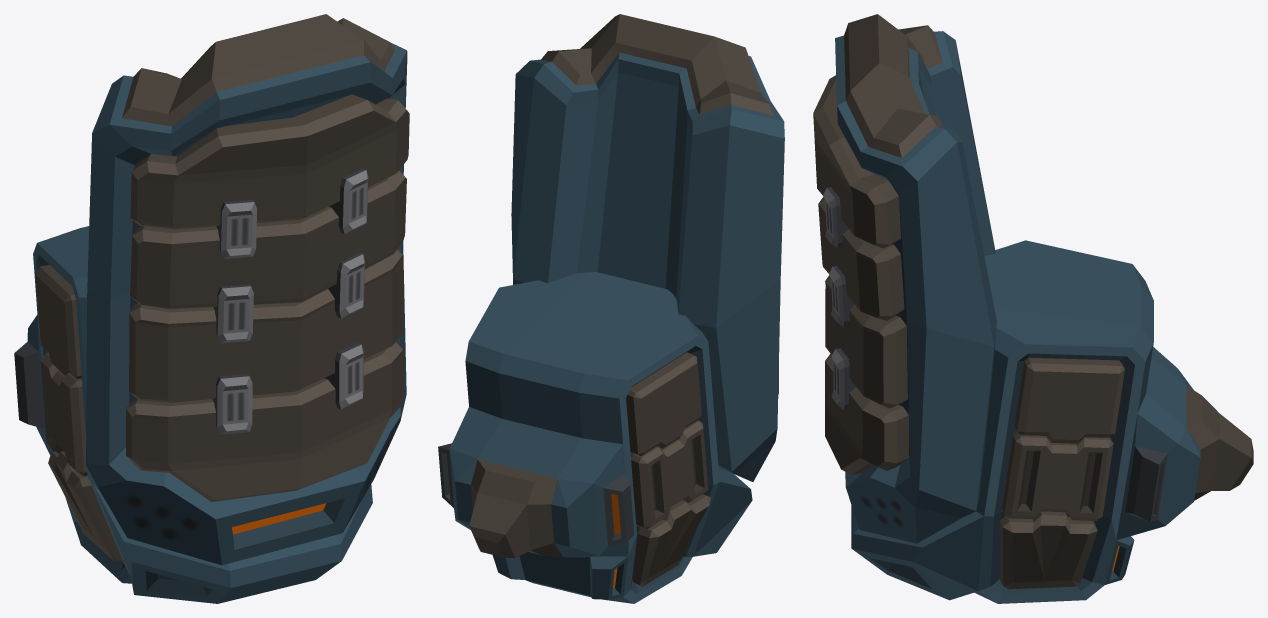
Rendered from SM_Mech_Leg_01_Armor_Thigh_02.fbx.
3 views of the same model, side by side, from view 1: azimuth 30°, elevation 25°; view 2: azimuth 150°, elevation 25°; view 3: azimuth 270°, elevation 25° (orthographic). The views are drawn at different scales.
Parts seen in each view (by area): view 1: SM_Mech_Leg_01_Armor_Thigh_02; view 2: SM_Mech_Leg_01_Armor_Thigh_02; view 3: SM_Mech_Leg_01_Armor_Thigh_02.
Part boxes in pixels (box(x1,y1,x2,y2)): SM_Mech_Leg_01_Armor_Thigh_02: box(14, 14, 409, 603); SM_Mech_Leg_01_Armor_Thigh_02: box(438, 14, 784, 603); SM_Mech_Leg_01_Armor_Thigh_02: box(813, 14, 1253, 603).
Size of the model in its own units: 55.19 by 97.02 by 73.32.
